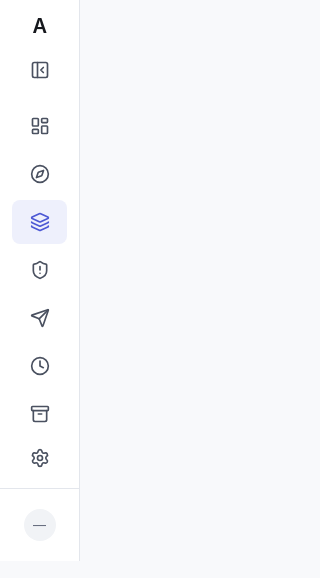
tooltips for icon-only navigation › labels the tablet icon rail, where the label is hidden but the sidebar is expanded
Hover over the 5th link named "Requests" at (40, 318), box x1=12 y1=296 x2=67 y2=340
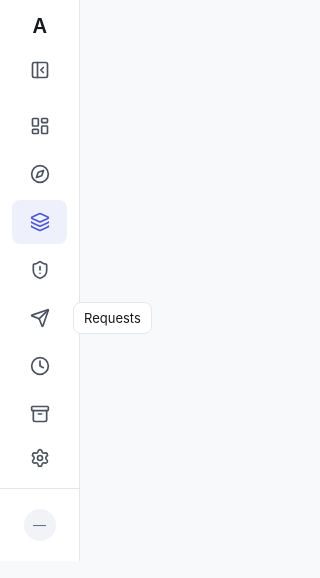
Expected: the tooltip reads "Requests", x1=84 y1=310 x2=141 y2=326
